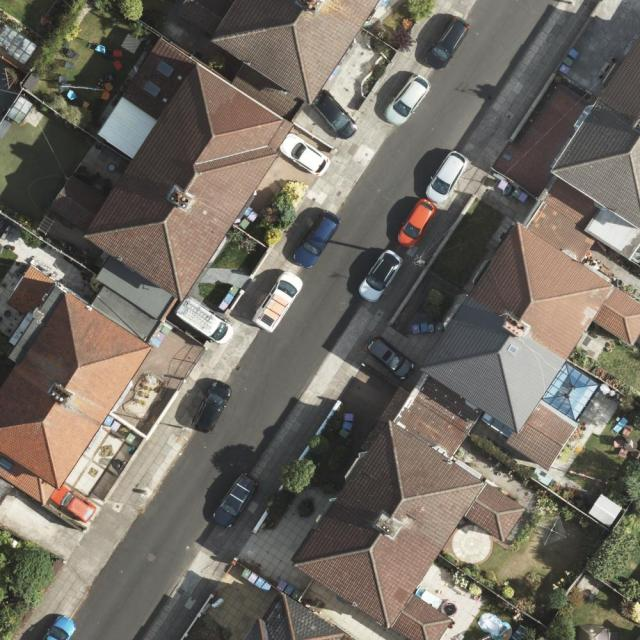roof: (292, 32, 640, 640), (0, 0, 380, 505), (244, 590, 361, 640)
skylight: (542, 363, 599, 420), (142, 79, 163, 99), (155, 59, 174, 78), (505, 343, 520, 357), (0, 458, 15, 472)
